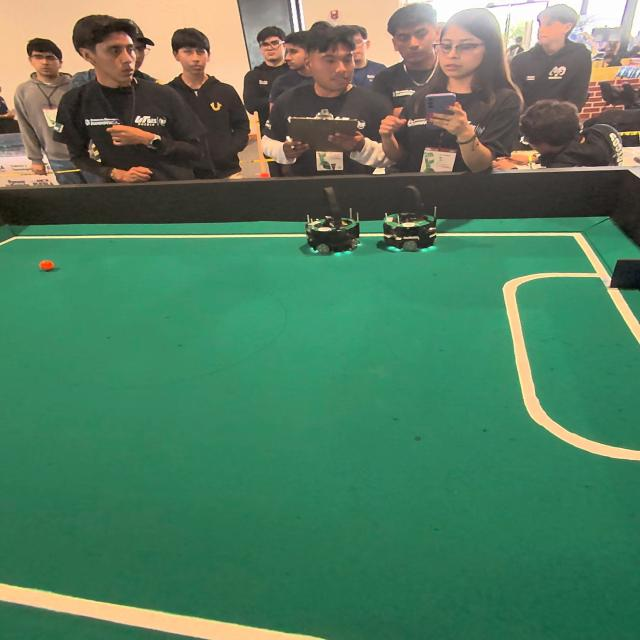Robot: (295, 185, 361, 263), (374, 182, 438, 260)
pelota: (31, 258, 63, 274)
